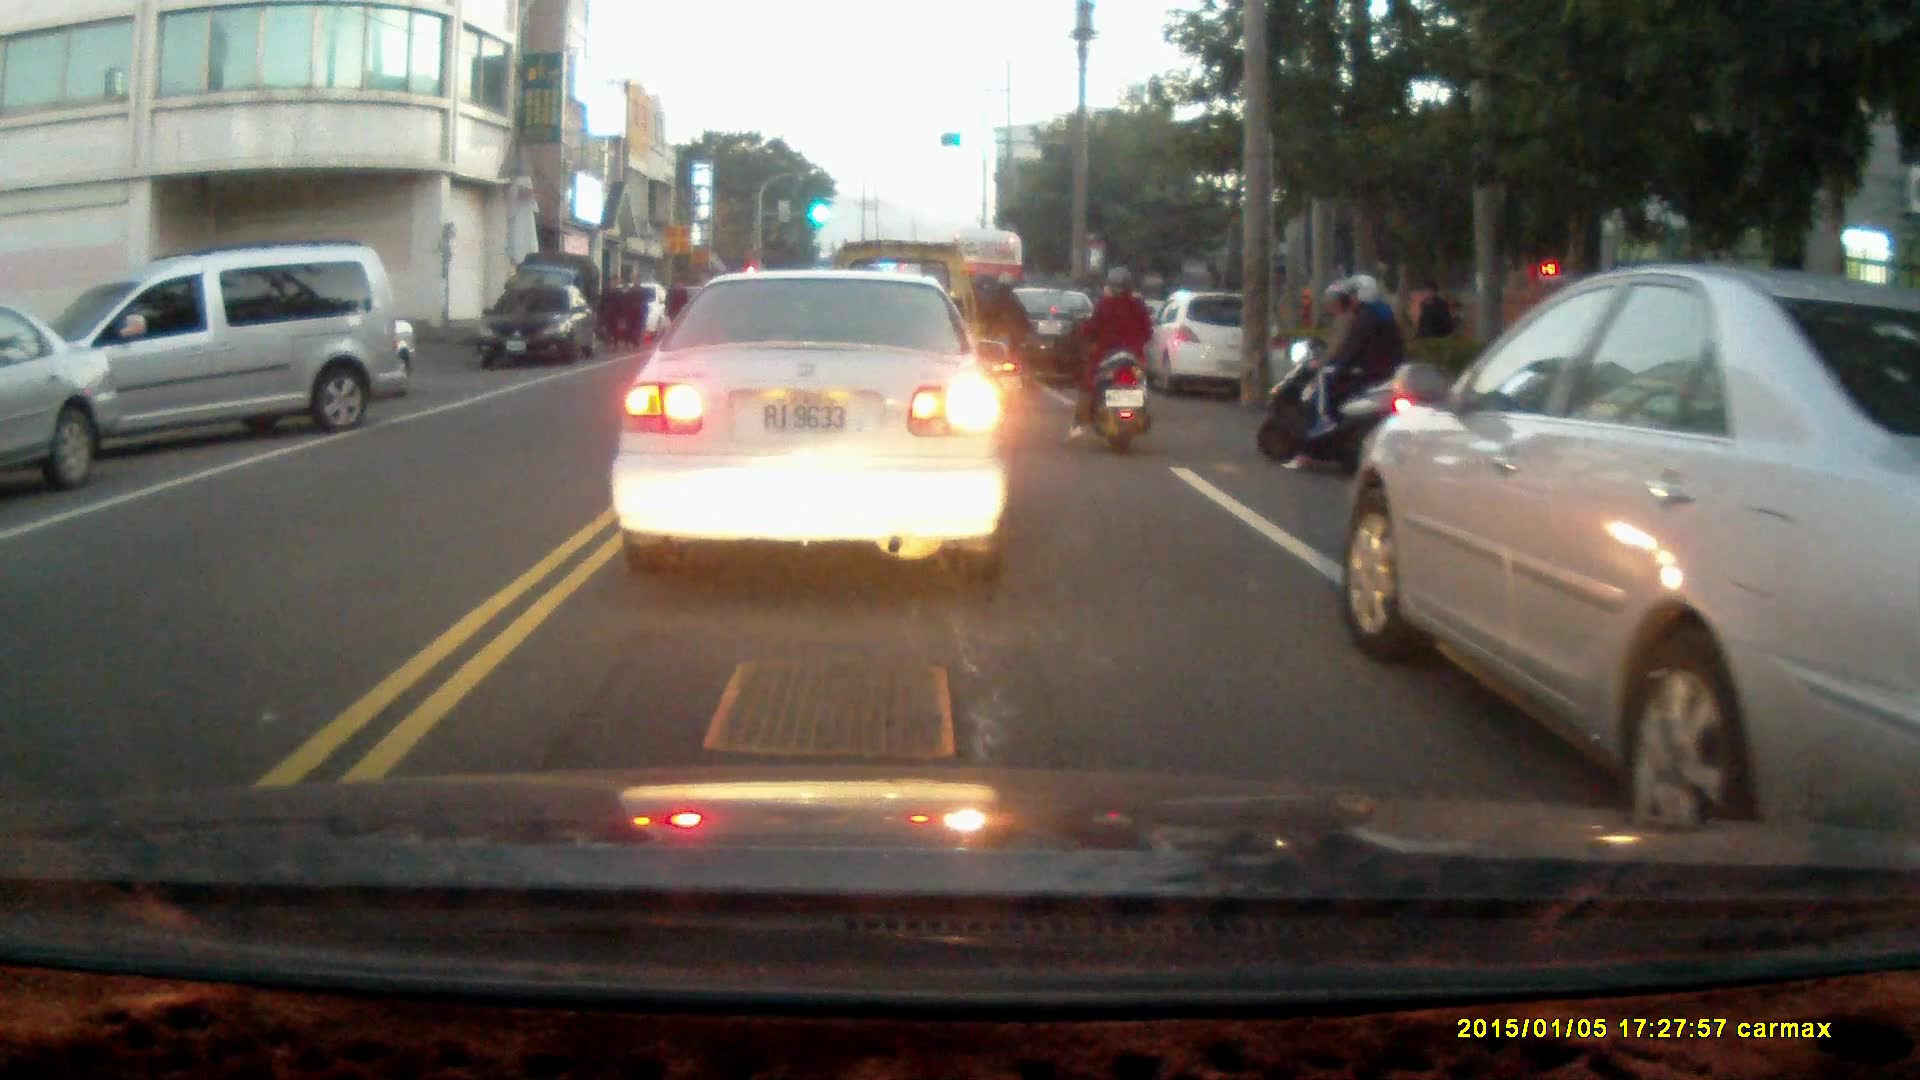pedestrian: (1412, 276, 1449, 367), (597, 272, 627, 353), (619, 272, 646, 351), (662, 274, 690, 344)
rider: (1255, 267, 1412, 472), (1058, 262, 1154, 450), (966, 270, 1030, 394)
vehicle: (1344, 257, 1920, 835), (620, 269, 1014, 588), (22, 247, 398, 463), (1, 304, 119, 493), (1142, 294, 1286, 399), (974, 286, 1113, 389), (484, 280, 603, 367)
